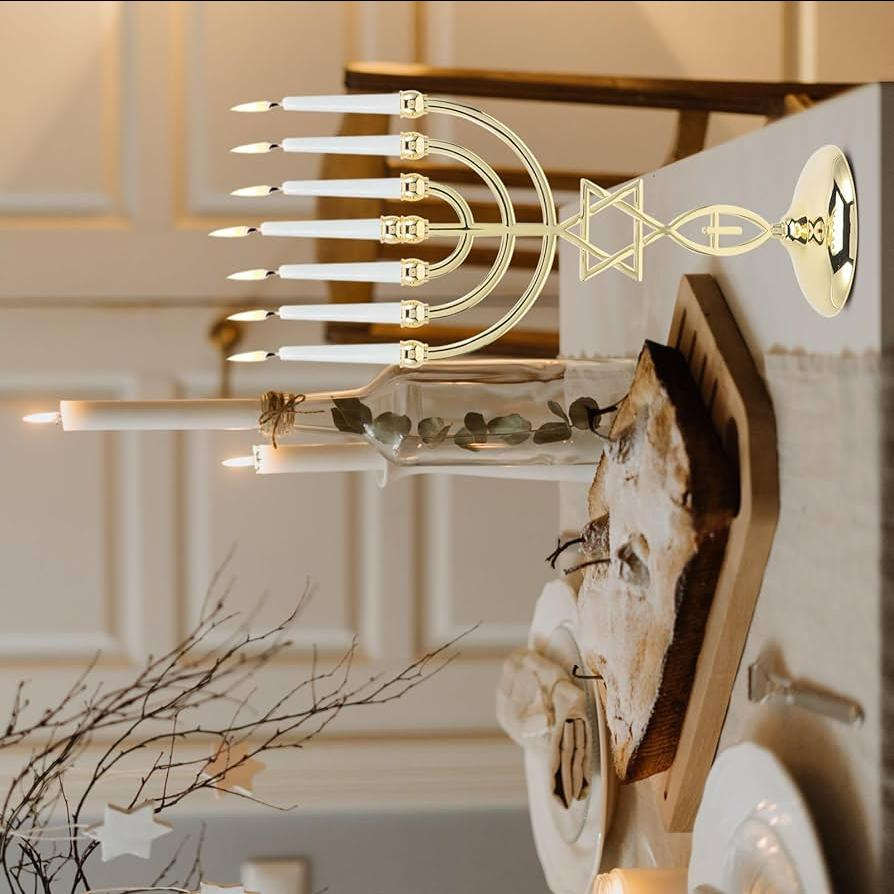controlled_fire: (199, 81, 303, 386), (204, 443, 282, 486), (13, 389, 66, 446)
